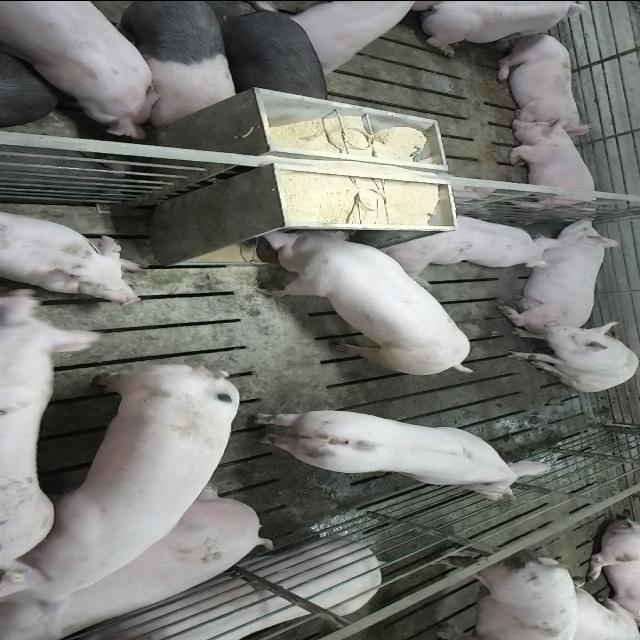Feeding: (252, 219, 474, 369)
Lateral_lying: (38, 538, 384, 640)
Sitting: (503, 320, 638, 390)
Standing: (4, 356, 244, 606), (0, 479, 277, 634), (253, 407, 560, 502), (0, 2, 167, 141), (76, 2, 240, 130), (208, 3, 332, 102)
Sternal_lying: (2, 204, 148, 302), (503, 214, 628, 324), (382, 210, 562, 274), (502, 116, 604, 216), (414, 2, 598, 56), (492, 31, 590, 130)
